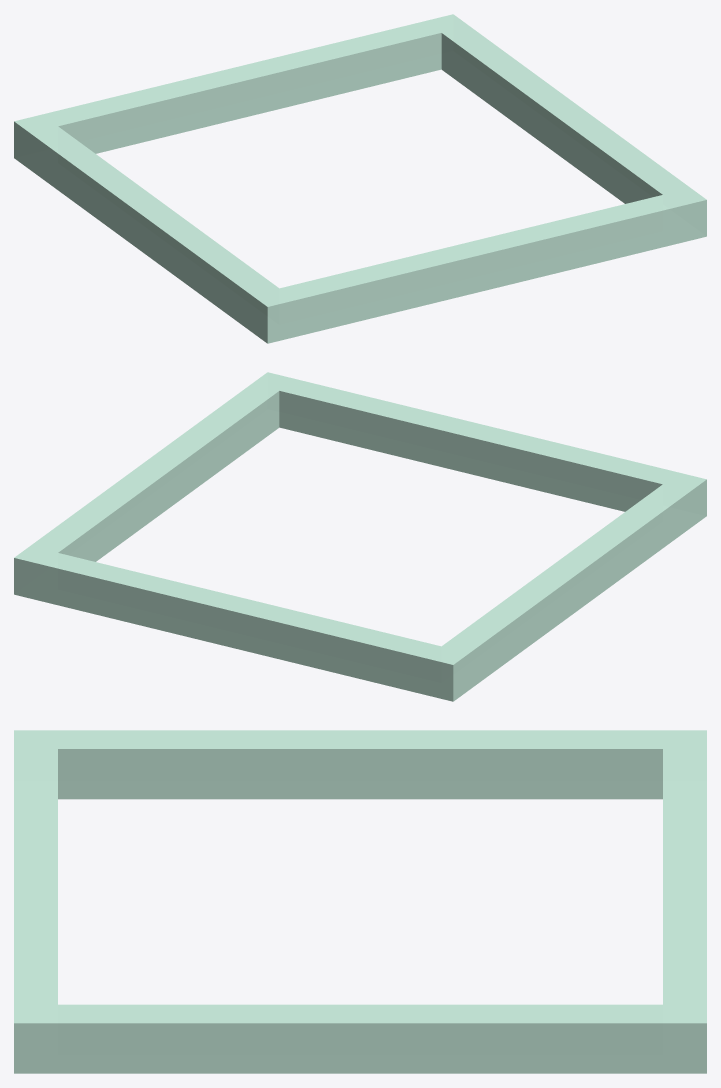
Rendered from tile-window-yellow.glb.
The picture shows the model from 3 angles, top to bottom: view 1: azimuth 30°, elevation 25°; view 2: azimuth 150°, elevation 25°; view 3: azimuth 270°, elevation 25°; orthographic projection. The views are drawn at different scales.
Visible parts, largest first — view 1: tile; view 2: tile; view 3: tile.
Boxes of the visible parts, left/top/right/bottom form: tile: left=14, top=14, right=706, bottom=343; tile: left=14, top=372, right=706, bottom=701; tile: left=14, top=730, right=706, bottom=1073.
Size of what is drawn, in the model's own units: 1 by 0.08 by 1.
